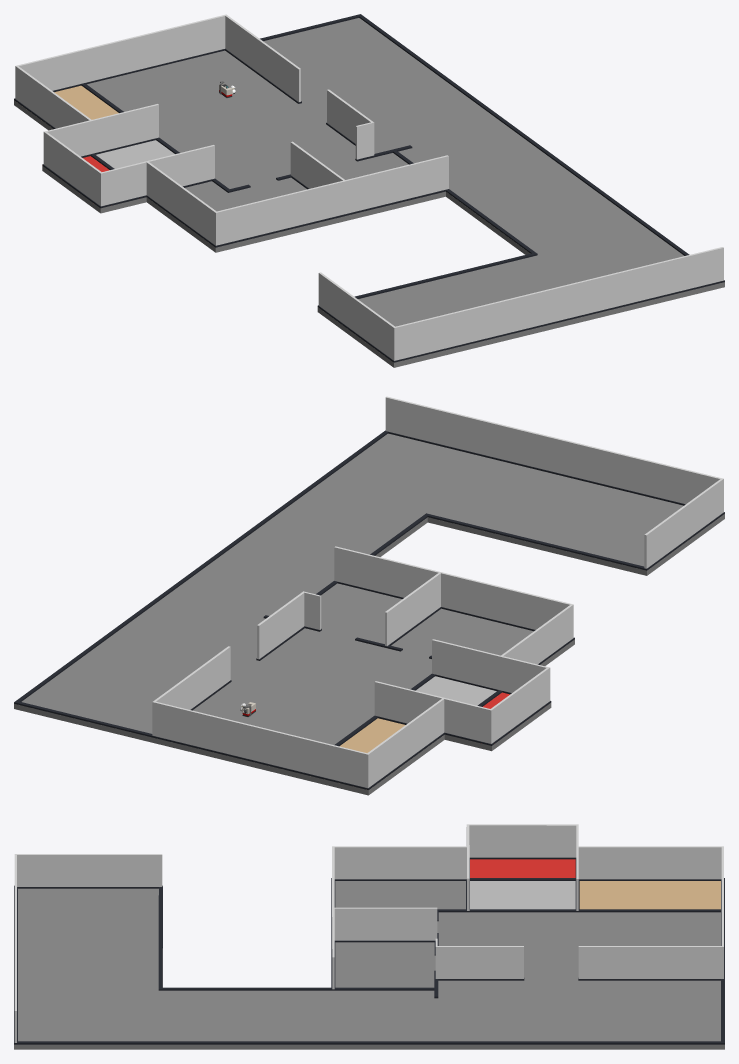
Rendered from factory.fbx.
3 renders of one model, top to bottom at view 1: azimuth 30°, elevation 25°; view 2: azimuth 150°, elevation 25°; view 3: azimuth 270°, elevation 25°, orthographic. The views are drawn at different scales.
Parts seen in each view (by area): view 1: Cube, Cube.005, Cube.006, Cube.002, Cube.004; view 2: Cube, Cube.005, Cube.006, Cube.002, Cube.004; view 3: Cube, Cube.005, Cube.002, Cube.006, Cube.004.
Part boxes in pixels (box(x1,y1,x2,y2)): Cube: box(14, 18, 724, 367); Cube.005: box(15, 14, 448, 245); Cube.006: box(318, 247, 723, 360); Cube.002: box(14, 14, 724, 362); Cube.004: box(327, 89, 374, 159); Cube: box(14, 433, 724, 795); Cube.005: box(152, 546, 573, 787); Cube.006: box(385, 396, 723, 568); Cube.002: box(14, 430, 724, 789); Cube.004: box(257, 591, 321, 659); Cube: box(14, 859, 724, 1049); Cube.005: box(332, 824, 723, 989); Cube.002: box(14, 857, 724, 1044); Cube.006: box(14, 854, 162, 1042); Cube.004: box(435, 938, 523, 978).
Bounding box in the file's own units: 3611 × 346 × 5801.
